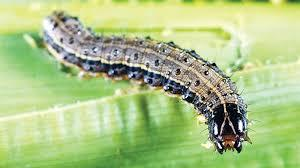fallarmy_worm: (33, 5, 263, 158)
